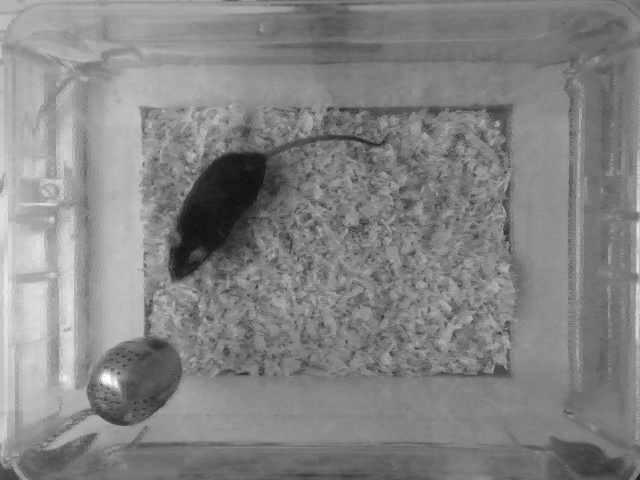mice: (161, 130, 391, 283)
